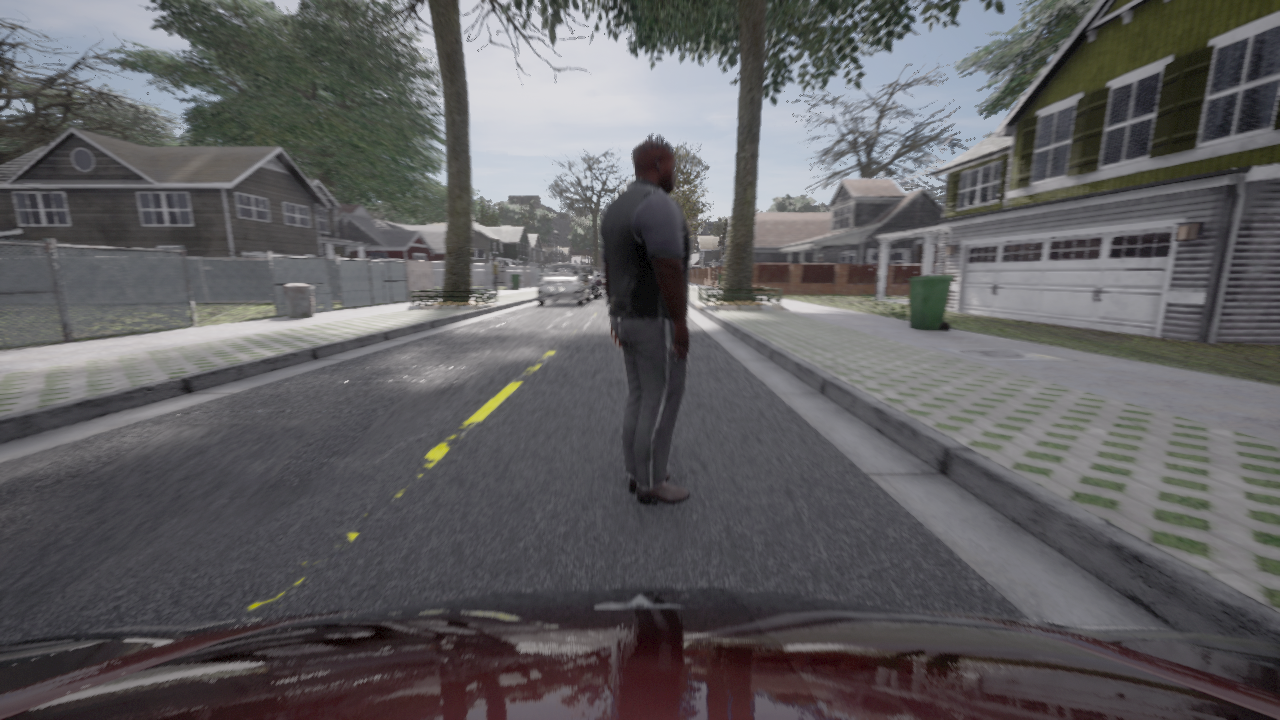cyclist: (0, 588, 1279, 719), (536, 263, 590, 305), (581, 265, 602, 299), (599, 272, 603, 291), (606, 300, 608, 305)
pedestrian: (600, 136, 691, 505), (492, 256, 498, 295)
